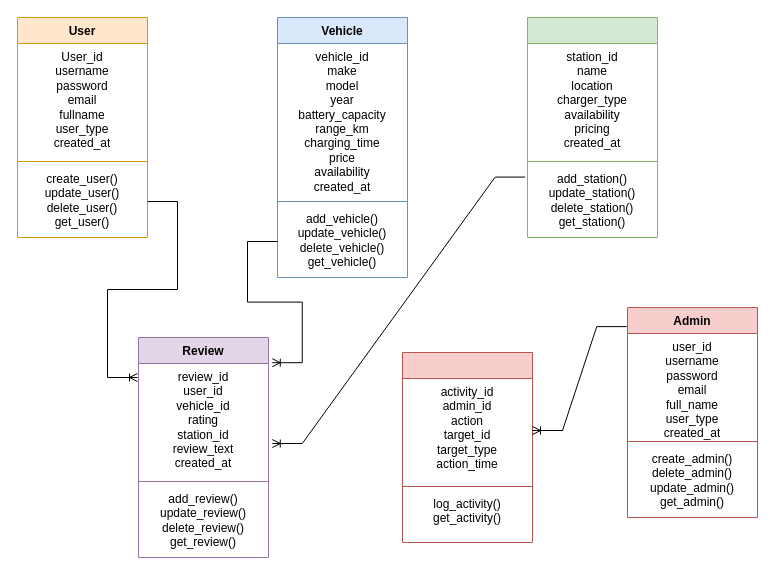
Some shapes in this 775 by 578 pixel diagram are drawn without their labels. Here are the shapes that lost their labels. From the top down, the box of each, then its label:
(526, 16, 658, 238): Charging Station
(402, 352, 532, 542): Admin Activity
